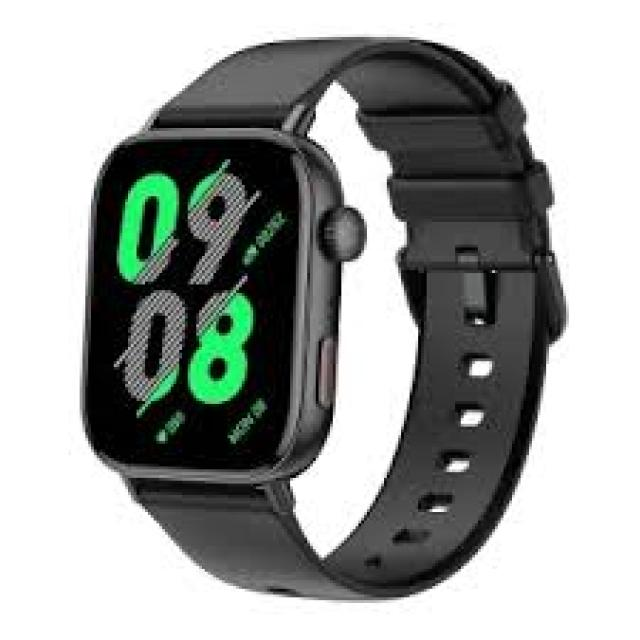objects: (82, 37, 563, 602)
